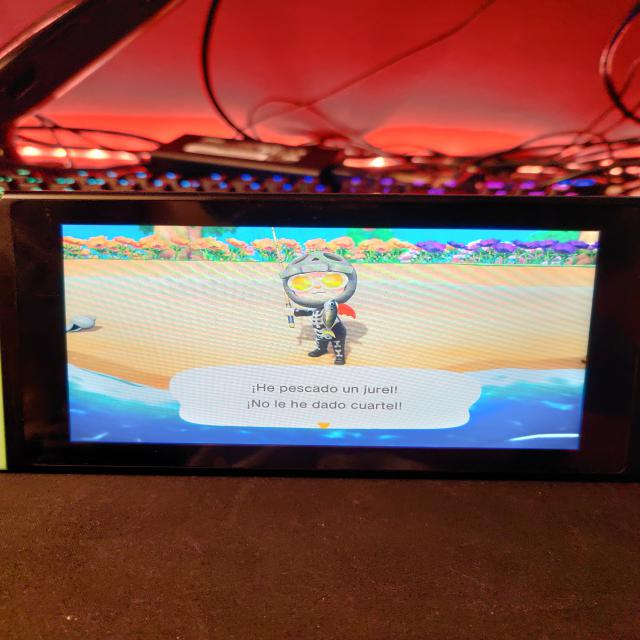text_bubble: (169, 364, 483, 434)
